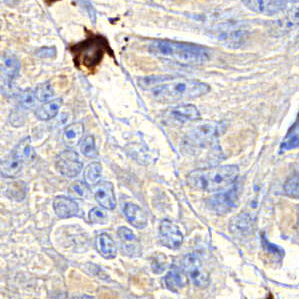Lymphocyte: (69, 28, 116, 75)
